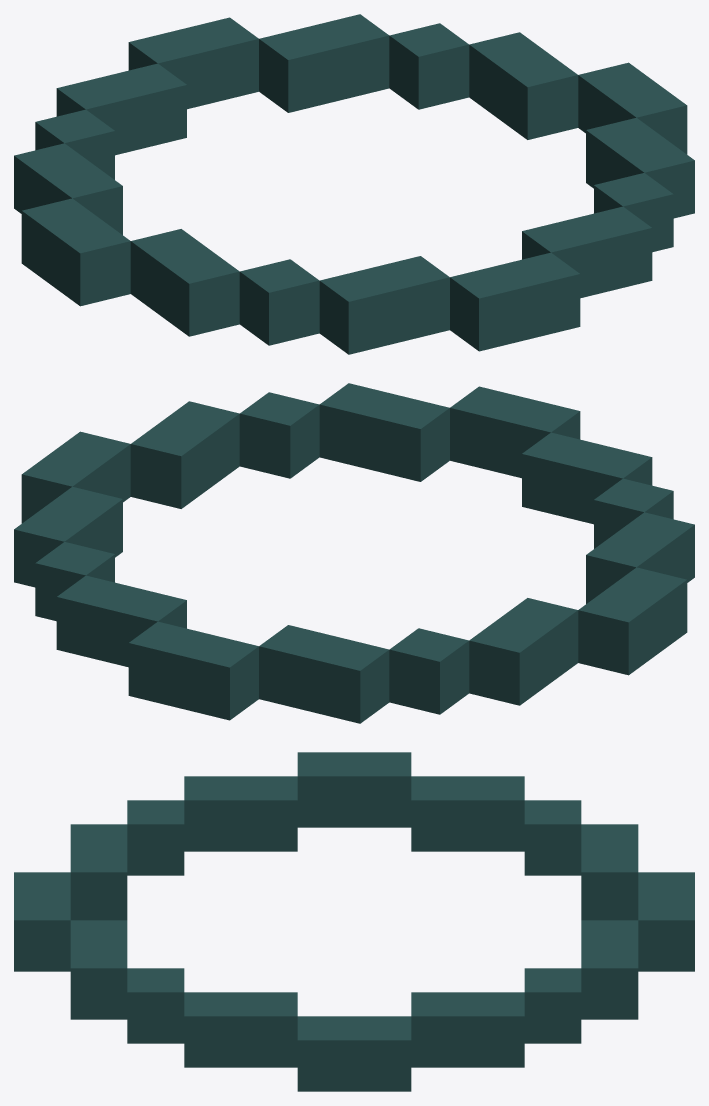
The model's file is Crystal_Ring_1.glb.
3 renders of one model, top to bottom at view 1: azimuth 30°, elevation 25°; view 2: azimuth 150°, elevation 25°; view 3: azimuth 270°, elevation 25°, orthographic. The views are drawn at different scales.
Visible parts, largest first — view 1: Crystal_Ring_1; view 2: Crystal_Ring_1; view 3: Crystal_Ring_1.
Boxes of the visible parts, x1,y1,x2,y2 form: Crystal_Ring_1: [14, 14, 694, 354]; Crystal_Ring_1: [14, 383, 694, 723]; Crystal_Ring_1: [14, 752, 694, 1091].
Bounding box in the file's own units: 0.3 × 0.025 × 0.3.
